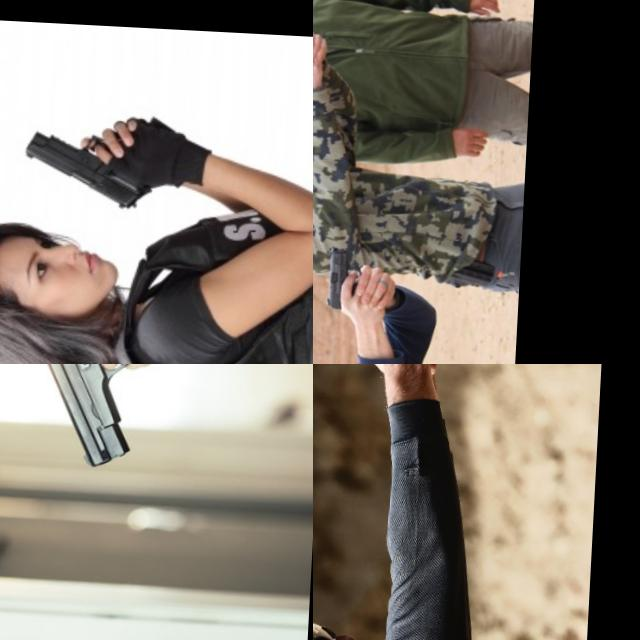handgun: (0, 364, 147, 480), (19, 128, 158, 213), (322, 364, 402, 448), (321, 243, 362, 311), (313, 12, 328, 72)
